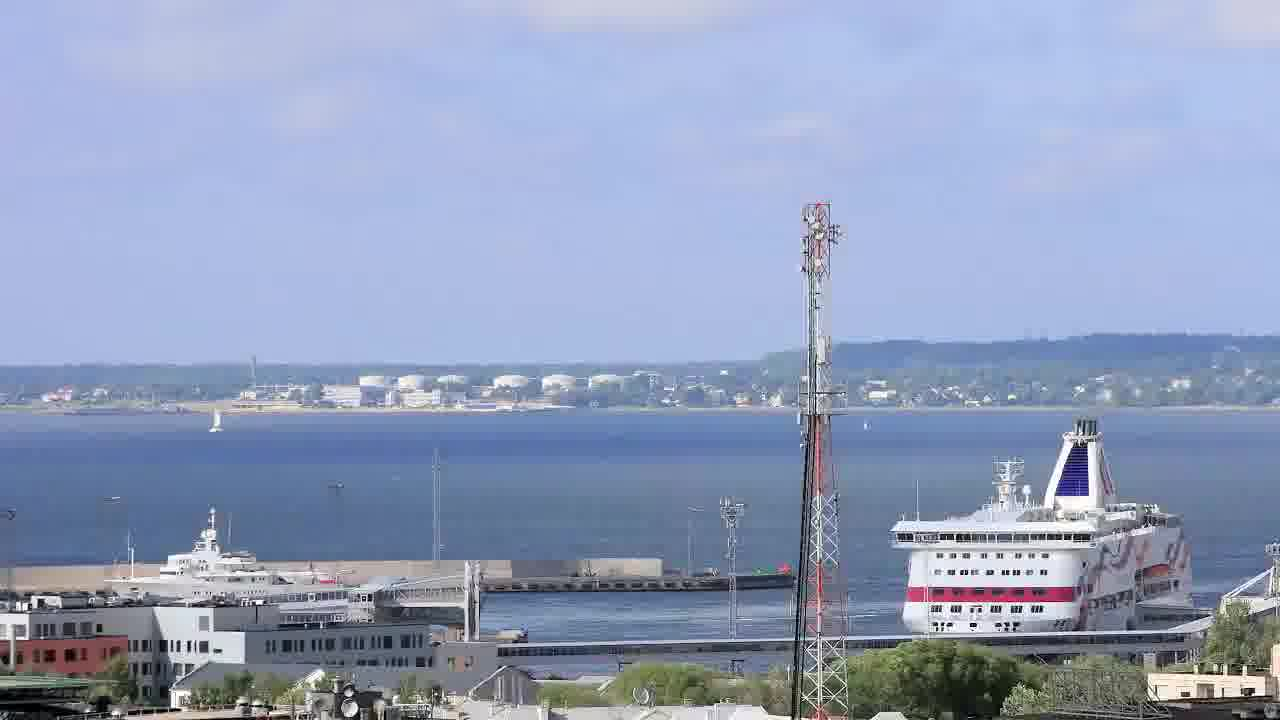type-2: (197, 396, 240, 450)
type-3: (868, 415, 1225, 638), (89, 518, 402, 620)
